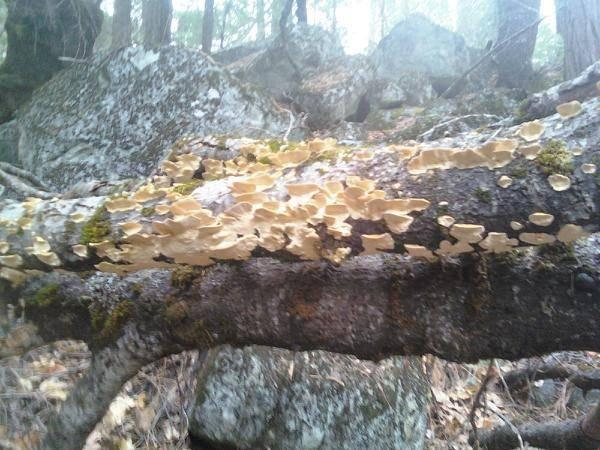Non-edible Mushroom: (90, 133, 431, 267)
